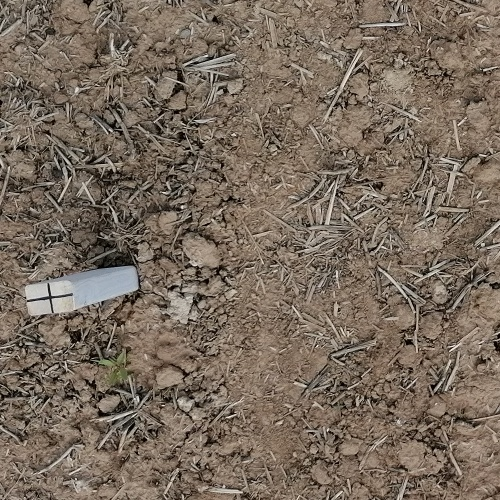beet: (98, 350, 127, 386)
